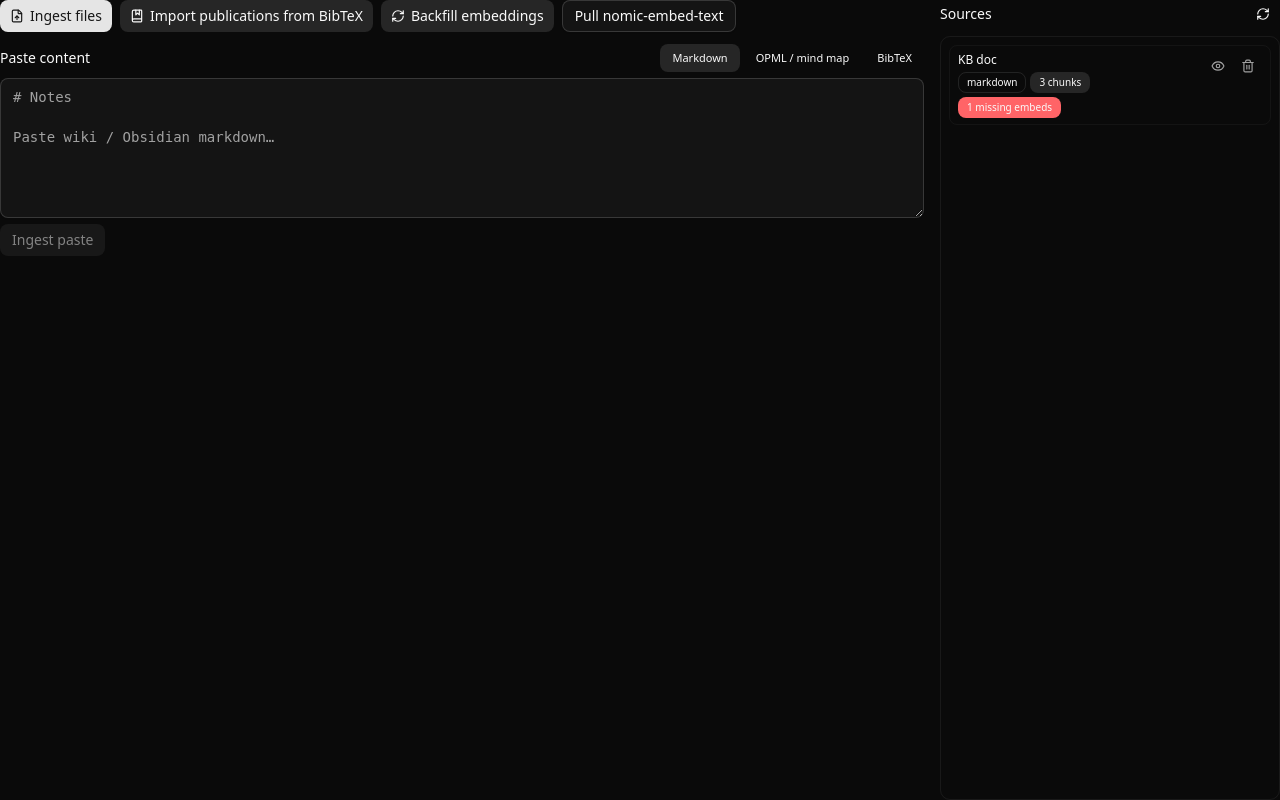
Test: CareerKnowledgeTab source coverage display › opens the source viewer with stored chunks when a source is clicked
What coordinates should you click on to do the following:
click the text "KB doc"
I would click on:
 (977, 60)
Its box is [958, 51, 997, 68].
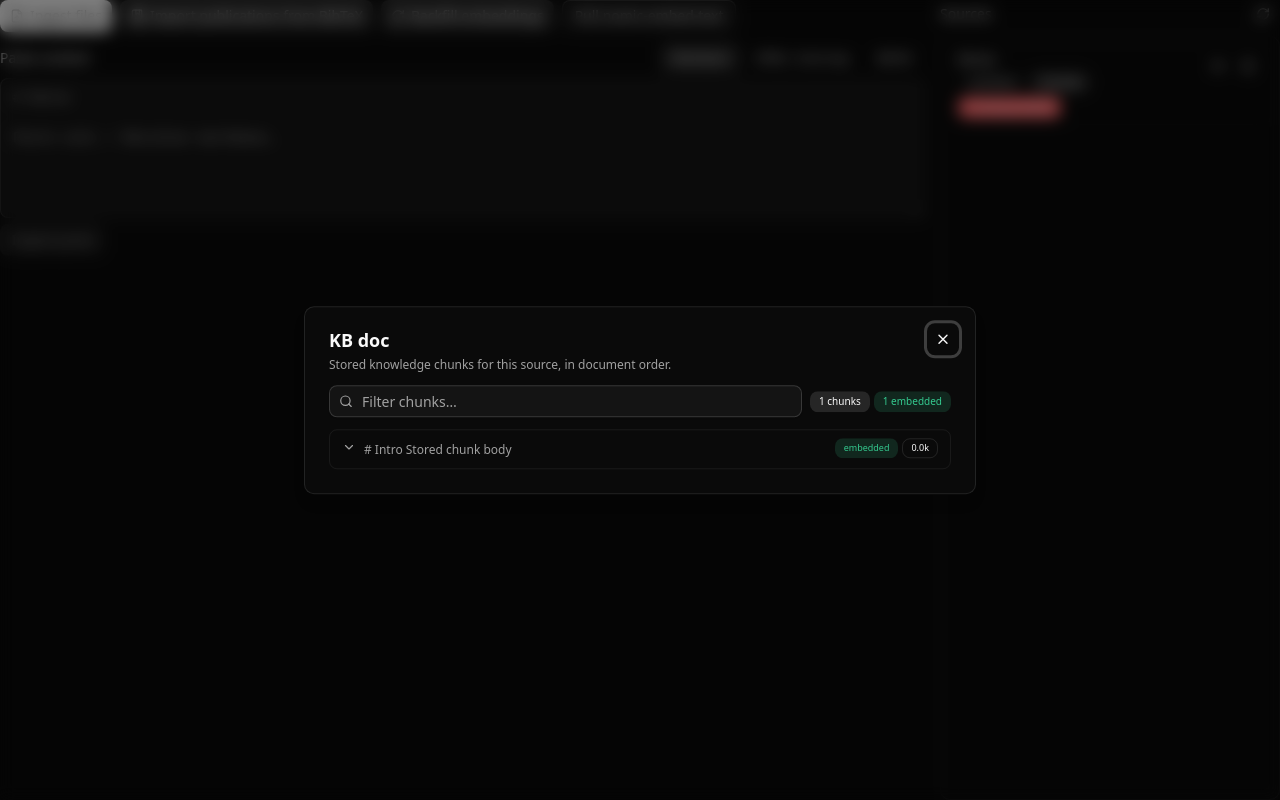
Now the dialog shows "KB doc", box [329, 328, 390, 352]
